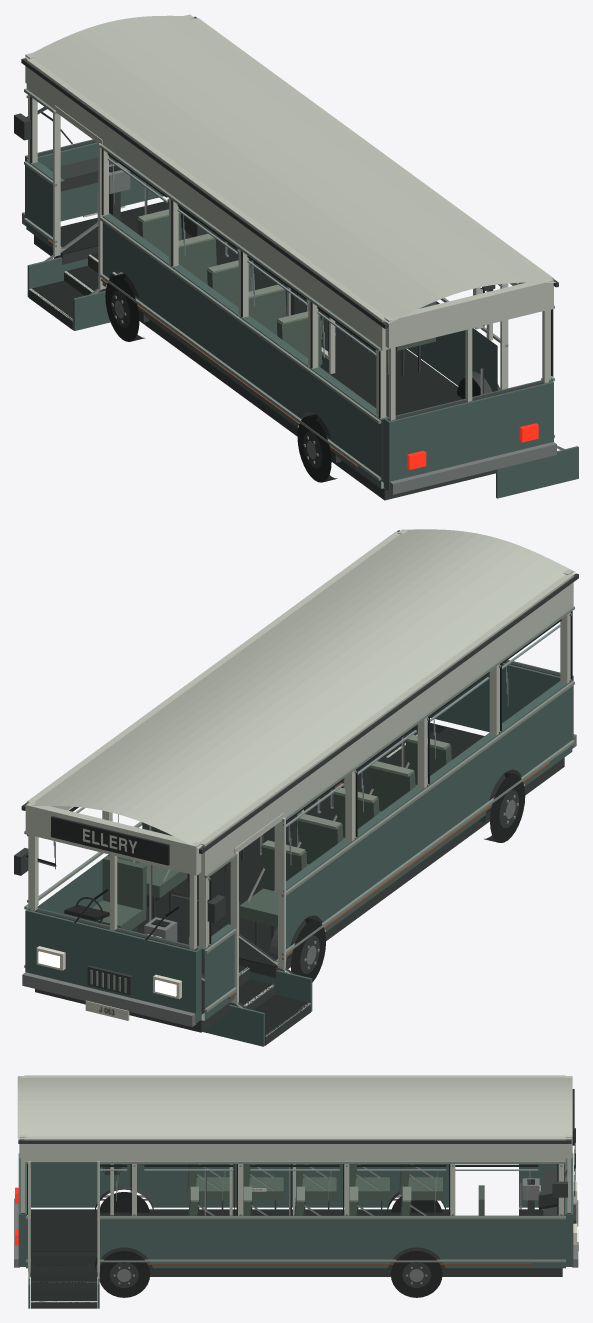
The model's file is outskirts-bus-passage.glb.
3 renders of one model, top to bottom at view 1: azimuth 30°, elevation 25°; view 2: azimuth 150°, elevation 25°; view 3: azimuth 270°, elevation 25°, orthographic. The views are drawn at different scales.
Parts seen in each view (by area): view 1: outskirts_bus_passage, outskirts_bus_passage_entry_leaf, outskirts_bus_passage_lamps_rear; view 2: outskirts_bus_passage, outskirts_bus_passage_lamps_front; view 3: outskirts_bus_passage, outskirts_bus_passage_entry_leaf.
Part boxes in pixels (x1,y1,x2,y2): outskirts_bus_passage: (14, 14, 578, 500); outskirts_bus_passage_entry_leaf: (287, 286, 335, 373); outskirts_bus_passage_lamps_rear: (407, 287, 538, 469); outskirts_bus_passage: (14, 529, 578, 1046); outskirts_bus_passage_lamps_front: (36, 946, 181, 999); outskirts_bus_passage: (14, 1075, 578, 1308); outskirts_bus_passage_entry_leaf: (229, 1164, 295, 1215).
Size of the model in its own units: 3.32 by 3.22 by 9.37.
Materials: 21 (4 with a texture image).
